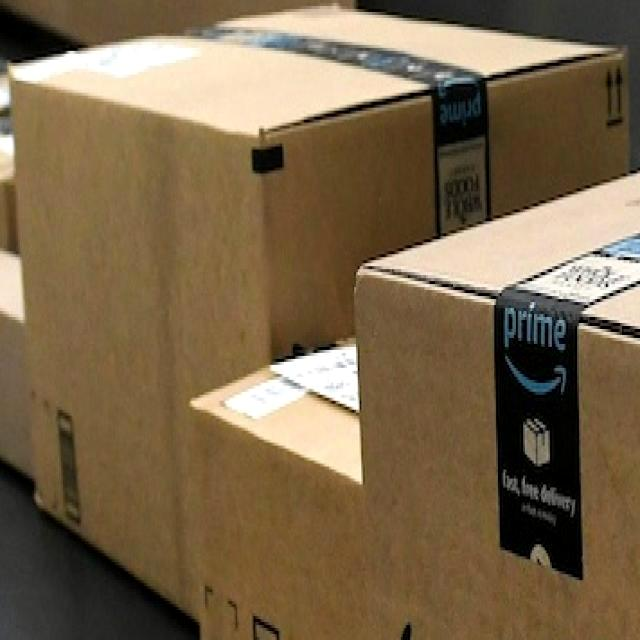Cardboard Box: (3, 0, 640, 612), (349, 169, 640, 640), (191, 344, 636, 640)
